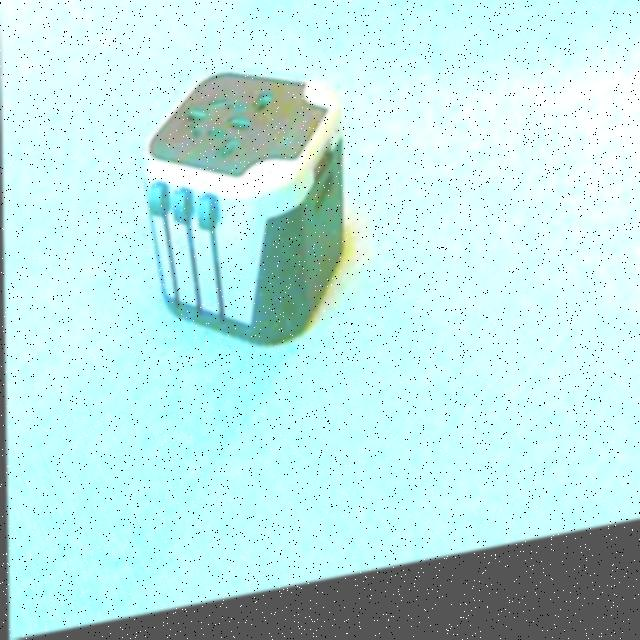adapter: (140, 57, 346, 375)
